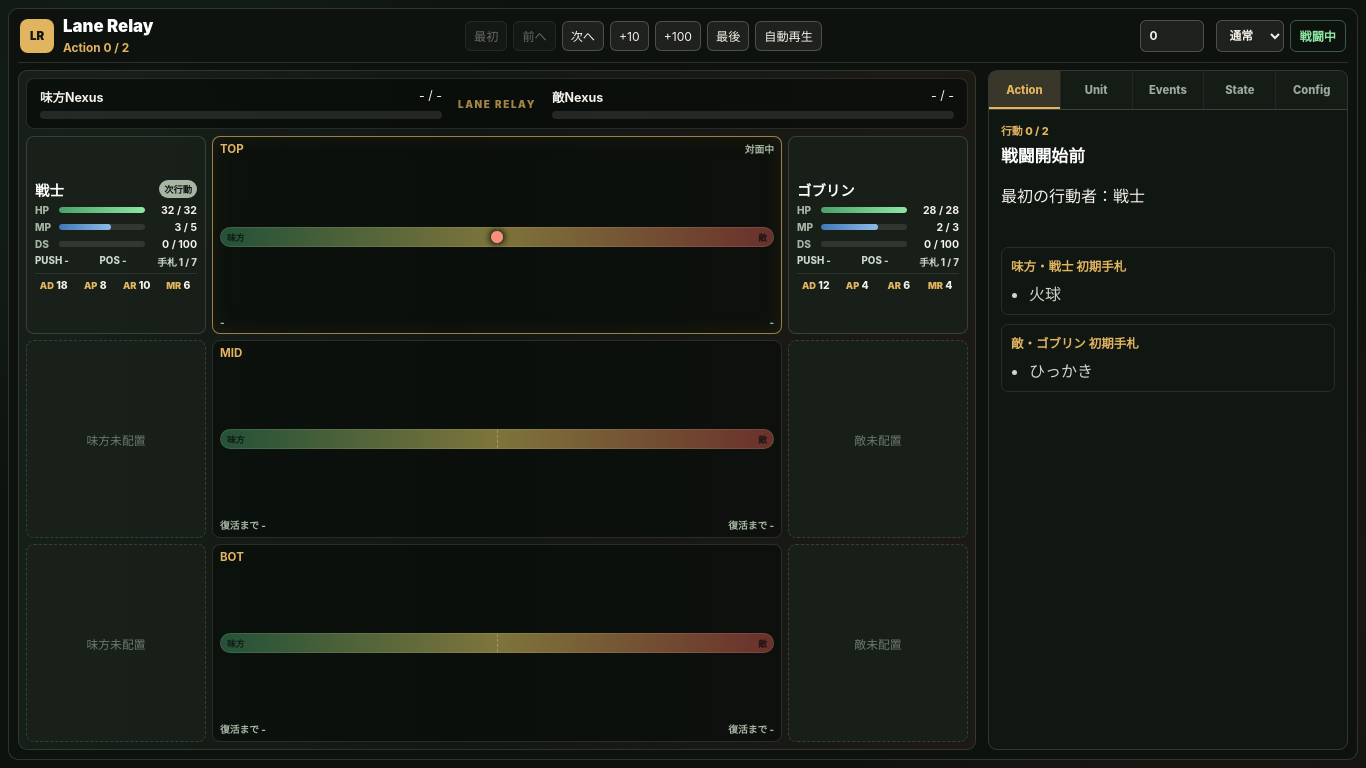
it: App › hundred forward clamps cursor to last action
Click the button "+100" at (678, 36), box [655,21,701,51]
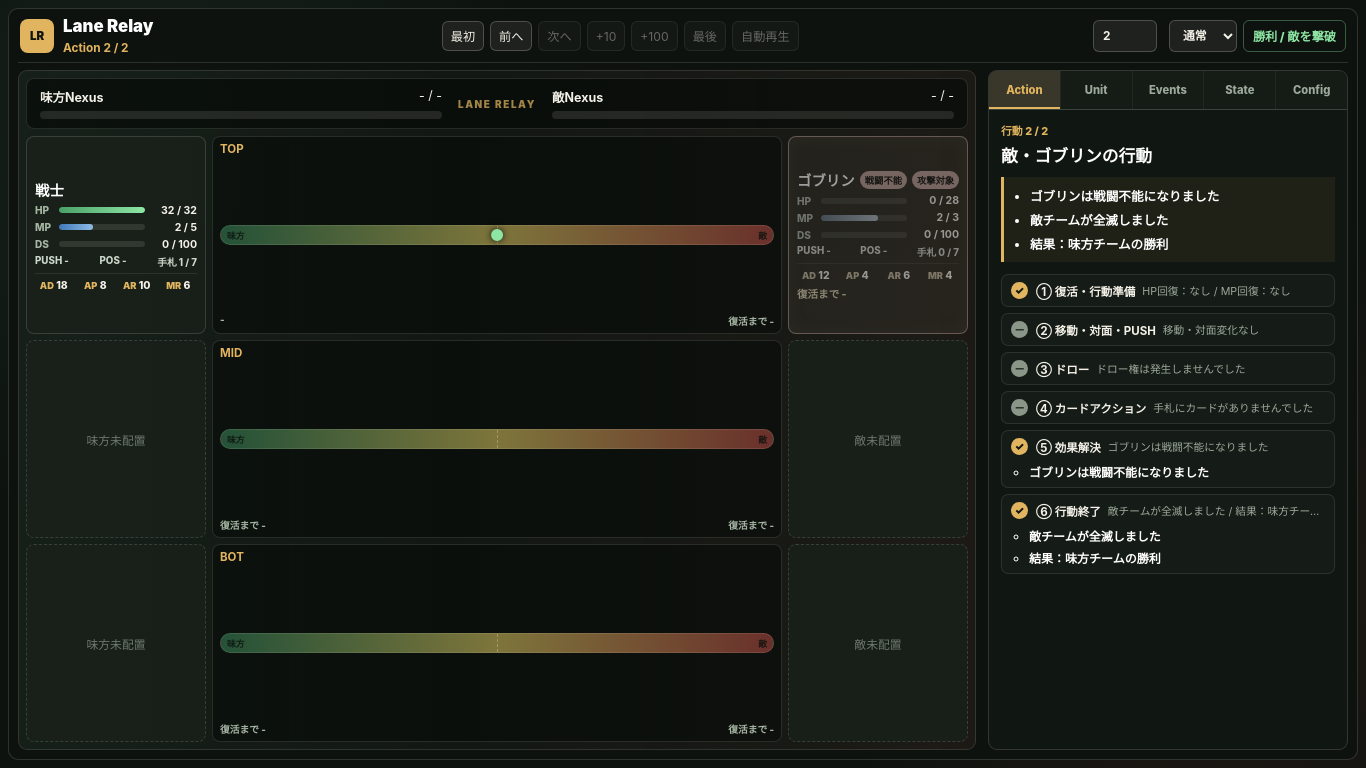
Result: the text "行動 2 / 2" is shown at [1001,124,1048,138]
